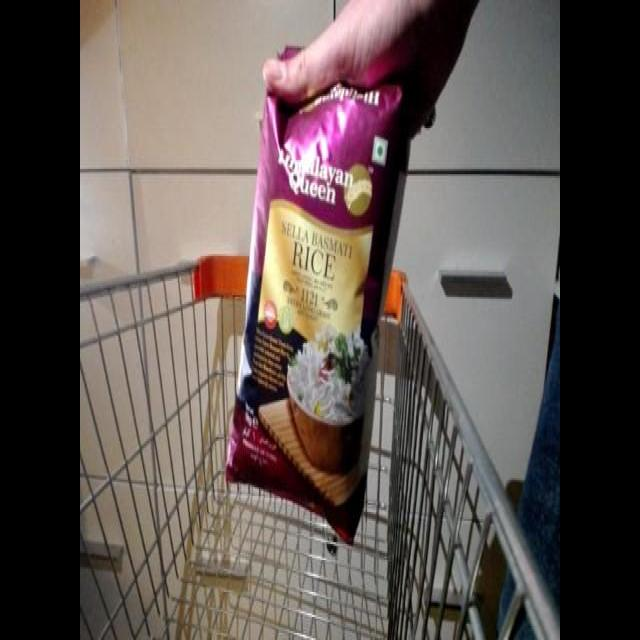Basmati Rice: (220, 39, 420, 542)
